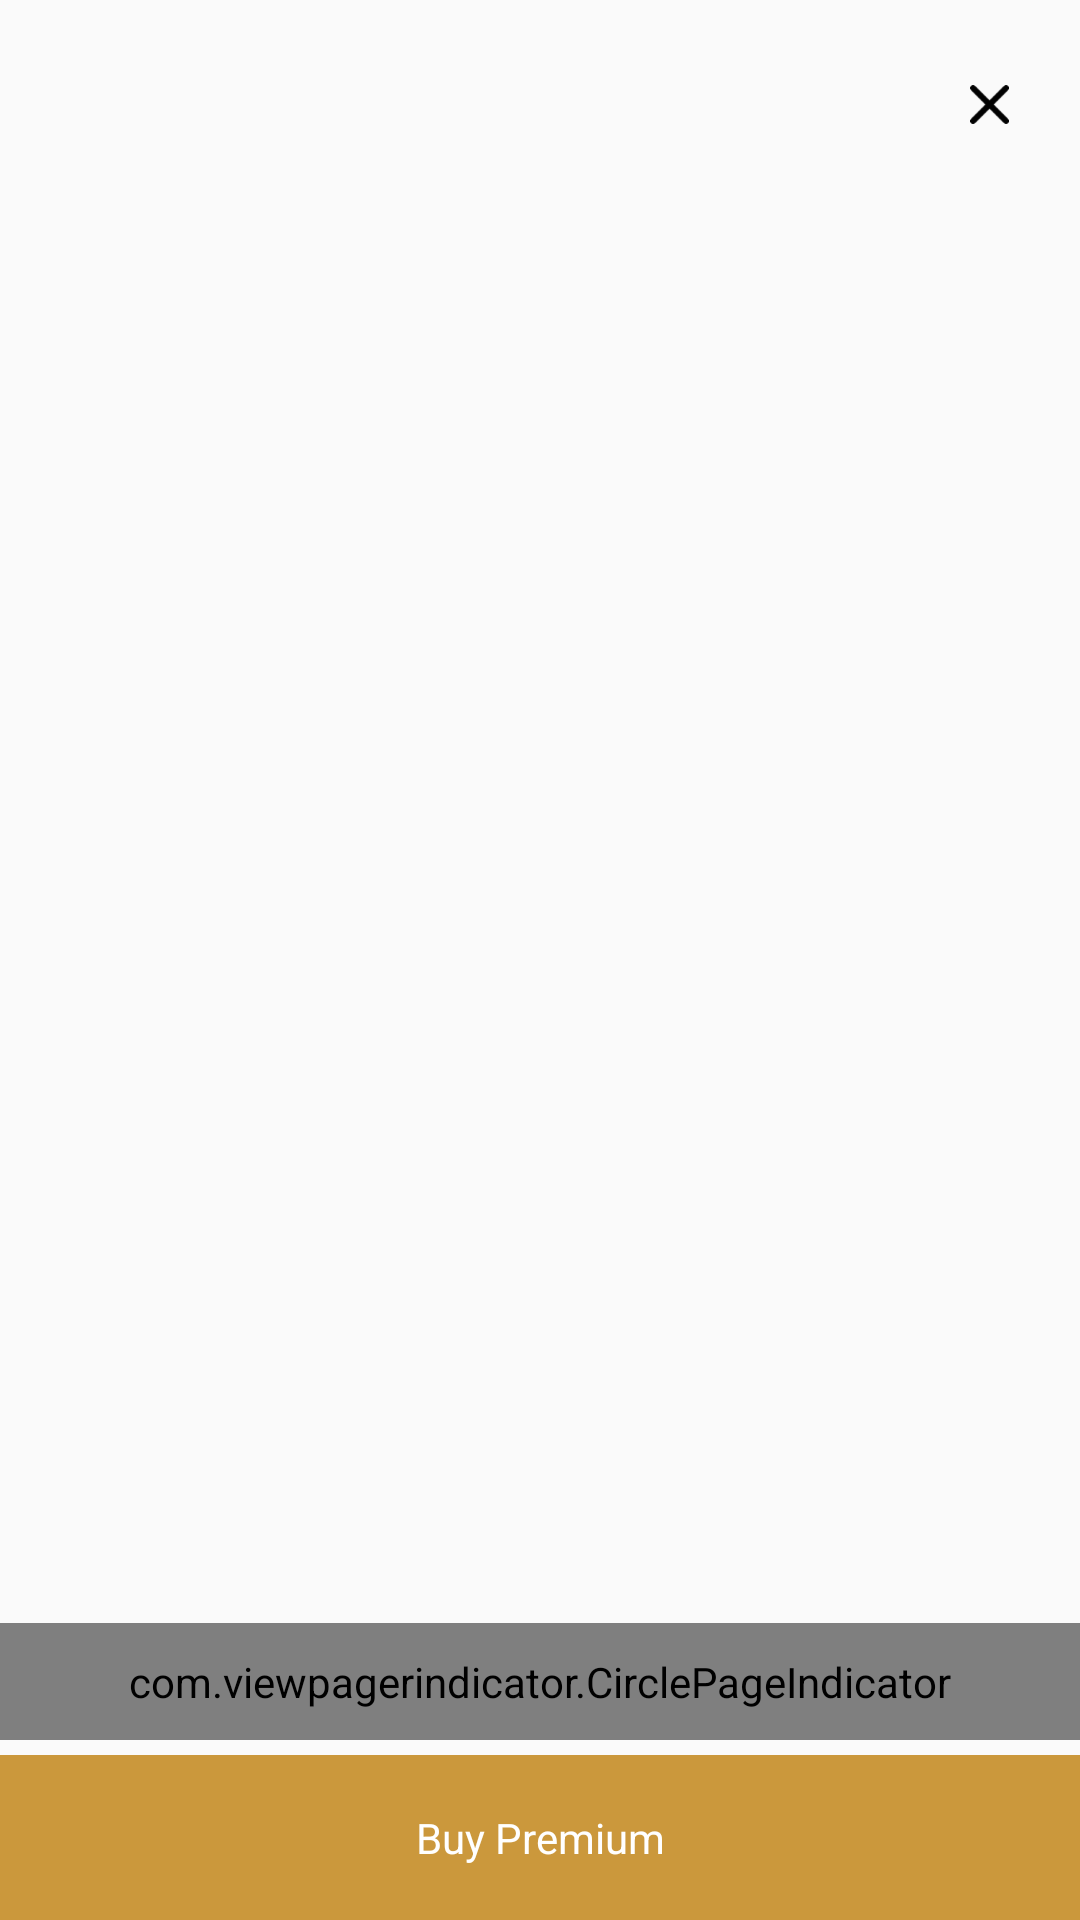

Point at icon controls on the screen. Image size 1080×1920, points as (x=x, y=y).
arival cross: (x=989, y=104)
